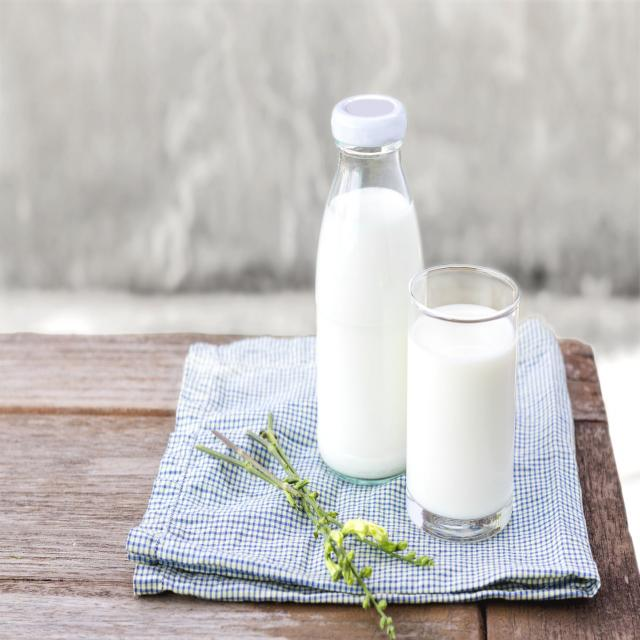Milk carton/jug: (316, 185, 426, 484), (405, 302, 524, 517)
